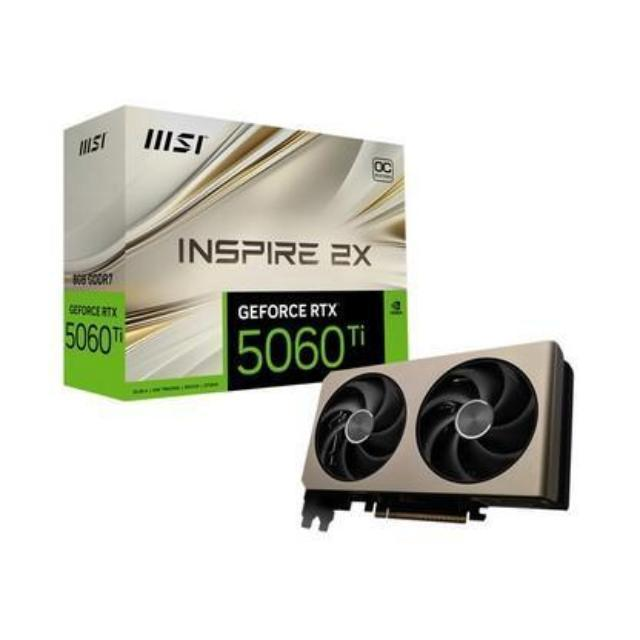GPU: (289, 321, 582, 550)
